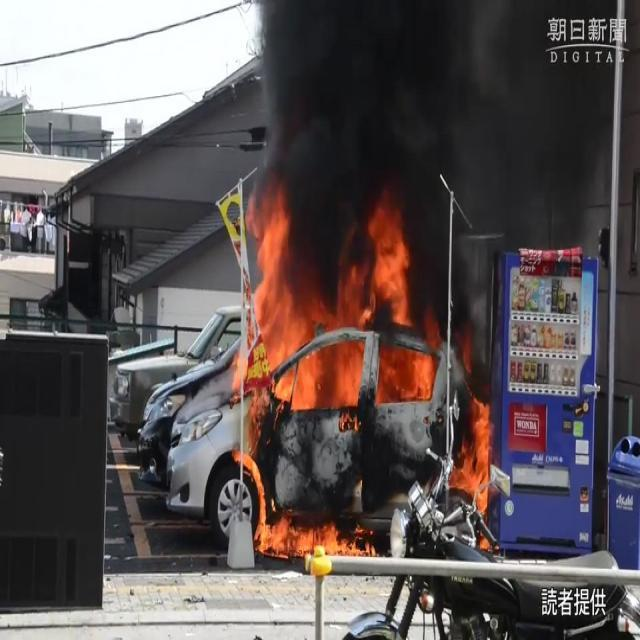Fire: (229, 181, 442, 557), (449, 396, 492, 550)
Smoke: (284, 2, 640, 210)
